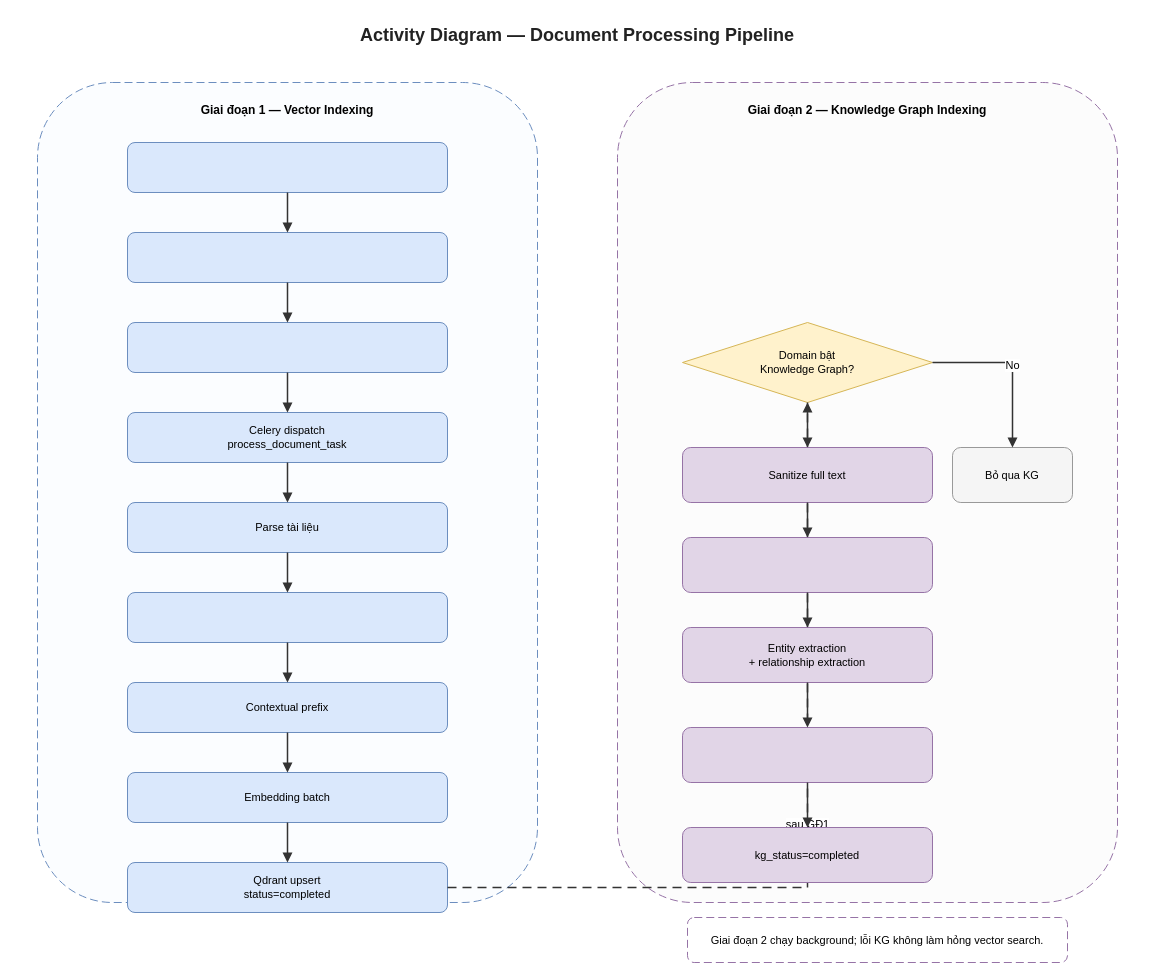
Some shapes in this 1154 by 980 pixel diagram are drawn without their labels. Each missing label, with the centre of its shape:
"Chunking theo domain" goes at (287,617).
"LightRAG insert_text" goes at (807,564).
"Lưu MinIO status=pending" goes at (287,347).
"Lưu Qdrant + GraphML workspace" goes at (807,754).
"Upload tài liệu" goes at (287,167).
"Validate file size / MIME" goes at (287,257).
